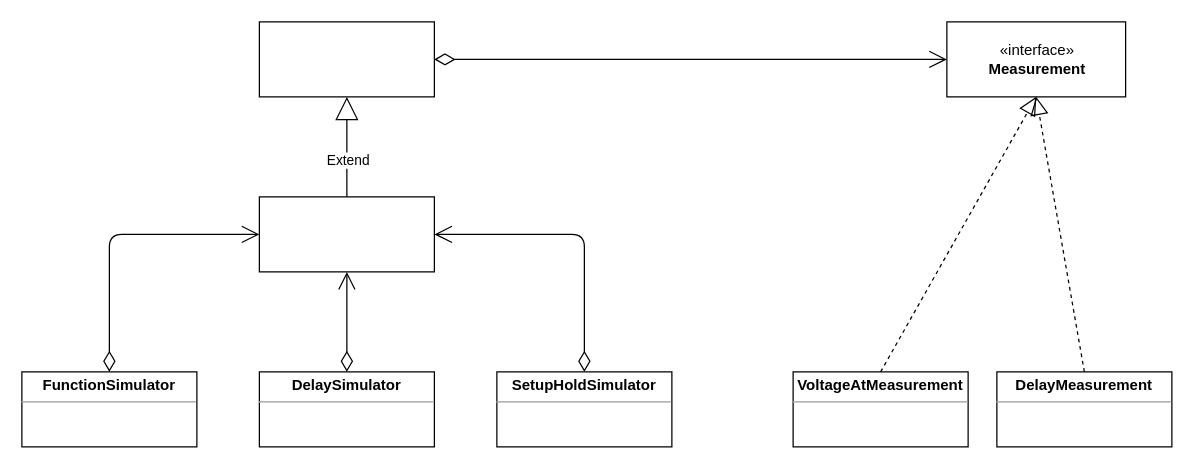
The diagram is 1194 pixels wide and 469 high, and some of its shapes have lost their labels. The shapes that lost their labels are listed below. From the top down, each one's centre as x and y in pixels, then its label:
At pixel 346 59: "Simulator".
At pixel 346 234: "SRAMSimulator".
